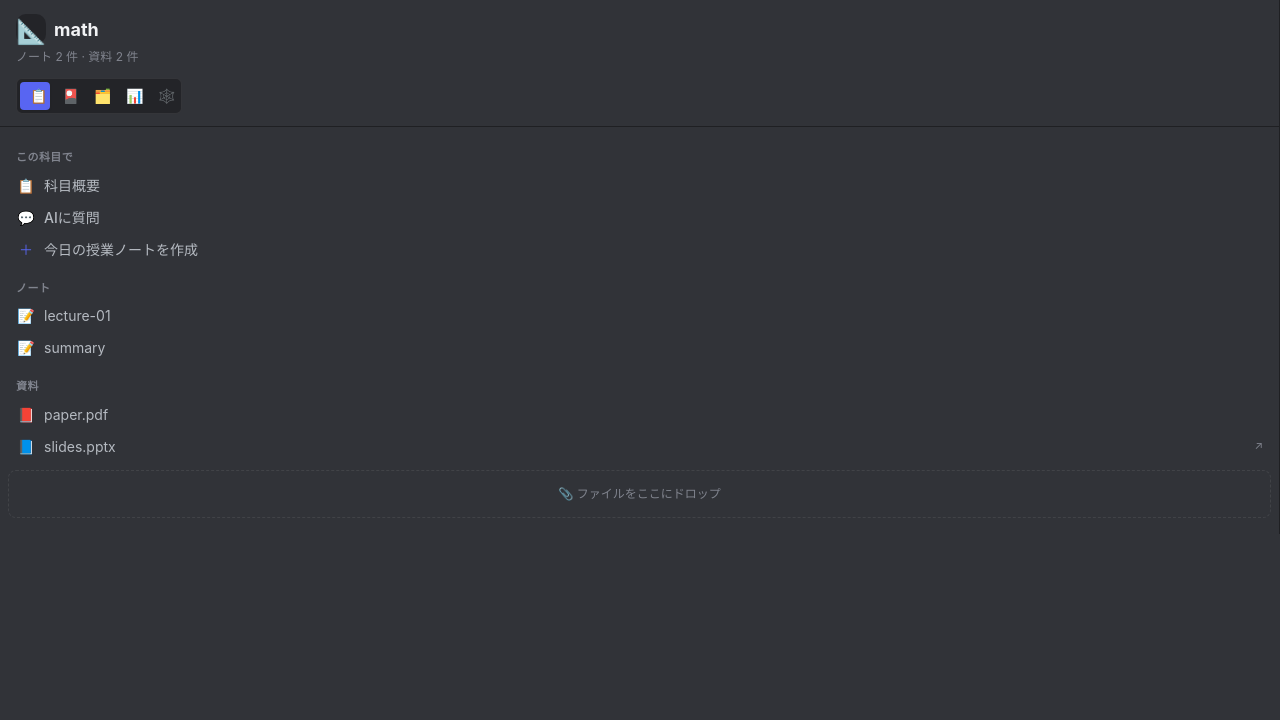
Test case: FileList › shows context menu on right-click
Right-click the text "lecture-01" at (77, 316), box [44, 307, 111, 324]
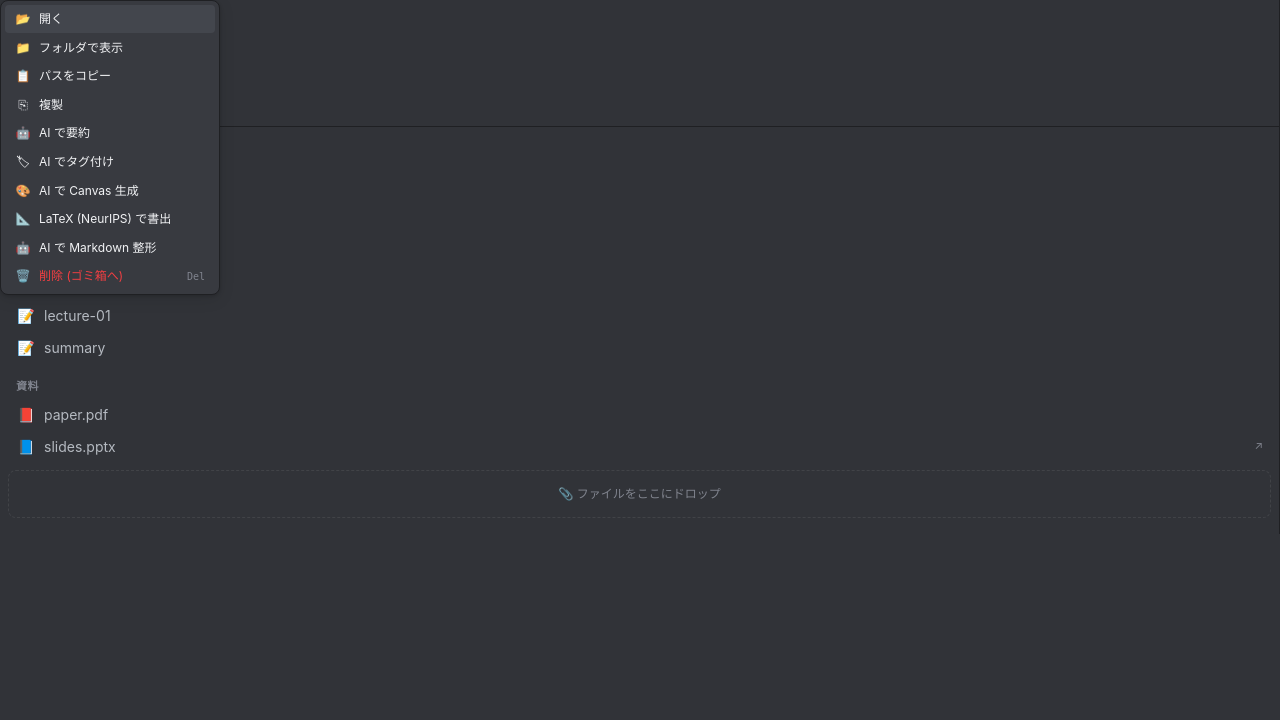
Expected: the text "開く" is shown, [39, 11, 63, 26]
Expected: the text "削除 (ゴミ箱へ)" is shown, [39, 268, 123, 283]
